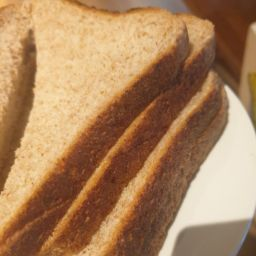Breads: (2, 2, 232, 256)
